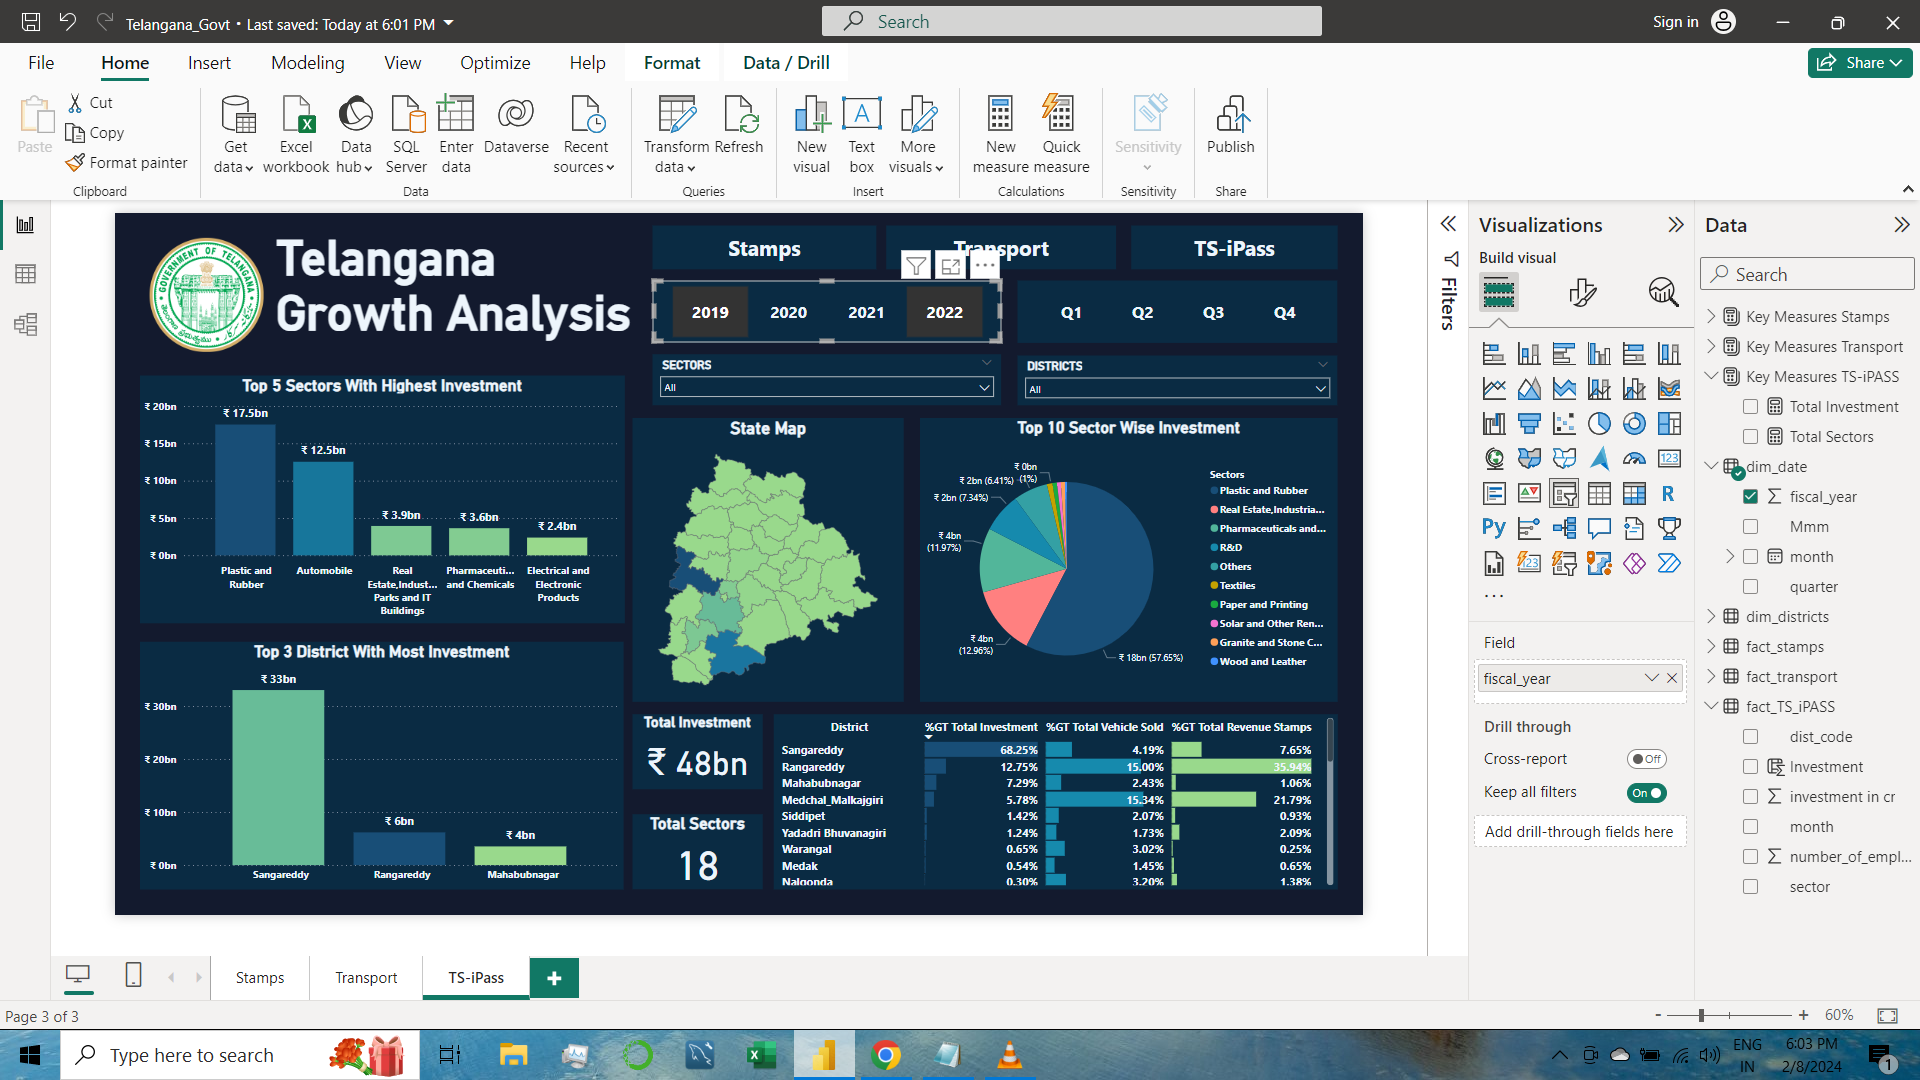

The dashboard page shown, as its layout file describes it:
{"tool":"powerbi","page":{"name":"TS-iPass","canvas":[1664,936],"ordinal":2},"visuals":[{"type":"slicer","fields":{"Values":["dim_date.fiscal_year"]},"box":[716.7,90,465,83.3],"z":0},{"type":"slicer","fields":{"Values":["dim_date.quarter"]},"box":[1203.3,90,426.7,83.3],"z":1000},{"type":"clusteredColumnChart","title":"Top 5 Sectors With Highest Investment","fields":{"Y":["Key Measures TS-iPASS.Total Investment"],"Category":["fact_TS_iPASS.sector"]},"box":[34,216,646,330],"z":2000},{"type":"clusteredColumnChart","title":"Top 3 District With Most Investment","fields":{"Category":["dim_districts.district"],"Y":["Key Measures TS-iPASS.Total Investment"]},"box":[33.3,571.7,645,330],"z":3000},{"type":"tableEx","title":"Investment Trend Monthly","fields":{"Values":["dim_districts.district","Key Measures TS-iPASS.Total Investment","Key Measures Transport.Total Vehicle Sold","Key Measures Stamps.Total Revenue Stamps"]},"box":[878.3,668.3,751.7,233.3],"z":4000},{"type":"shapeMap","title":"State Map","fields":{"Category":["dim_districts.district"],"Value":["Key Measures TS-iPASS.Total Investment"]},"box":[690,273.3,361.7,378.3],"z":5000},{"type":"card","title":"Total Sectors","fields":{"Values":["Key Measures TS-iPASS.Total Sectors"]},"box":[690,801.7,173.3,100],"z":6000},{"type":"card","title":"Total Investment ","fields":{"Values":["Key Measures TS-iPASS.Total Investment"]},"box":[690,668.3,173.3,100],"z":7000},{"type":"image","box":[33.3,28.3,176.7,161.7],"z":8000},{"type":"textbox","box":[210,16.7,506.7,173.3],"z":9000},{"type":"actionButton","box":[716.7,16.7,298.3,58.3],"z":10000},{"type":"actionButton","box":[1355,16.7,275,58.3],"z":11000},{"type":"actionButton","box":[1028.3,16.7,306.7,58.3],"z":12000},{"type":"slicer","fields":{"Values":["fact_TS_iPASS.sector"]},"box":[716.7,188.3,465,68.3],"z":13000},{"type":"slicer","fields":{"Values":["dim_districts.district"]},"box":[1203.3,190,426.7,66.7],"z":14000},{"type":"pieChart","title":"Top 10 Sector Wise Investment","fields":{"Category":["fact_TS_iPASS.sector"],"Y":["Key Measures TS-iPASS.Total Investment"]},"box":[1073.3,273.3,556.7,378.3],"z":15000}]}

Visuals, with their boxes on the page's 1664x936 design canvas (x1, y1, x2, y2). These are canvas units, not pixel positions in the 1920x1080 screenshot, which may show the page scaled, cropped or inside an application window:
slicer - dim_date.fiscal_year: <region>717, 90, 1182, 173</region>
slicer - dim_date.quarter: <region>1203, 90, 1630, 173</region>
"Top 5 Sectors With Highest Investment" clusteredColumnChart: <region>34, 216, 680, 546</region>
"Top 3 District With Most Investment" clusteredColumnChart: <region>33, 572, 678, 902</region>
"Investment Trend Monthly" tableEx: <region>878, 668, 1630, 902</region>
"State Map" shapeMap: <region>690, 273, 1052, 652</region>
"Total Sectors" card: <region>690, 802, 863, 902</region>
"Total Investment " card: <region>690, 668, 863, 768</region>
image: <region>33, 28, 210, 190</region>
textbox: <region>210, 17, 717, 190</region>
actionButton: <region>717, 17, 1015, 75</region>
actionButton: <region>1355, 17, 1630, 75</region>
actionButton: <region>1028, 17, 1335, 75</region>
slicer - fact_TS_iPASS.sector: <region>717, 188, 1182, 257</region>
slicer - dim_districts.district: <region>1203, 190, 1630, 257</region>
"Top 10 Sector Wise Investment" pieChart: <region>1073, 273, 1630, 652</region>
